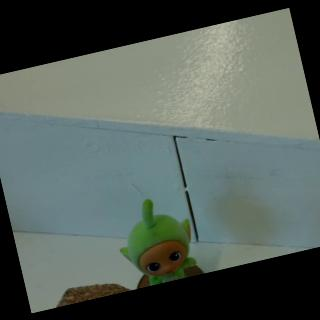teletubby: (120, 199, 195, 284)
